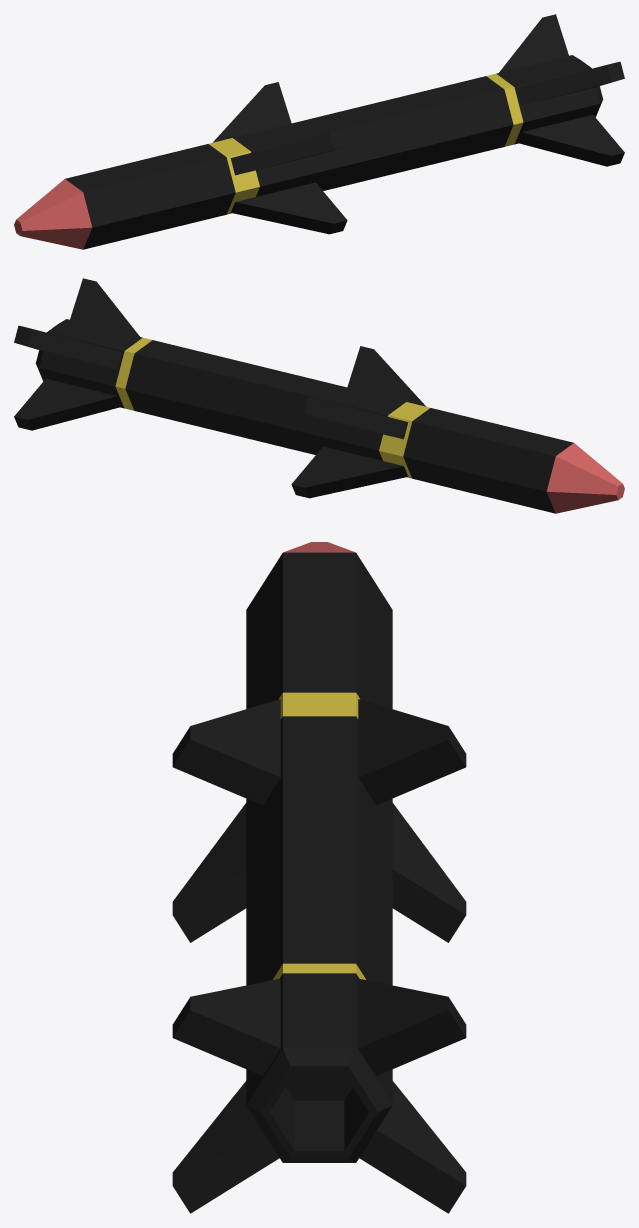
Rendered from rocket2.obj.
The picture shows the model from 3 angles, top to bottom: view 1: azimuth 30°, elevation 25°; view 2: azimuth 150°, elevation 25°; view 3: azimuth 270°, elevation 25°; orthographic projection. The views are drawn at different scales.
Parts seen in each view (by area): view 1: Cylinder; view 2: Cylinder; view 3: Cylinder.
Boxes of the visible parts, <box> form: Cylinder: <box>14,14,624,249</box>; Cylinder: <box>14,278,624,513</box>; Cylinder: <box>172,542,466,1213</box>.
Bounding box in the file's own units: 17.98 × 3.07 × 4.01.
